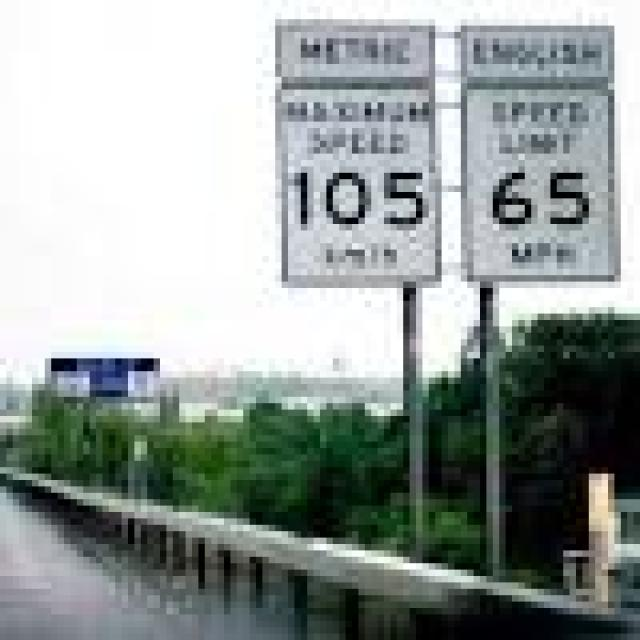speedLimit65: (464, 74, 618, 246)
